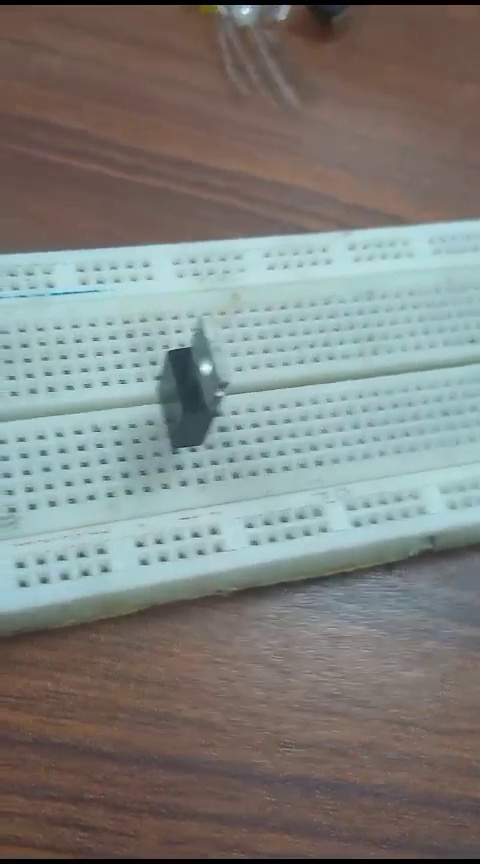voltage regulator: (149, 325, 229, 460)
